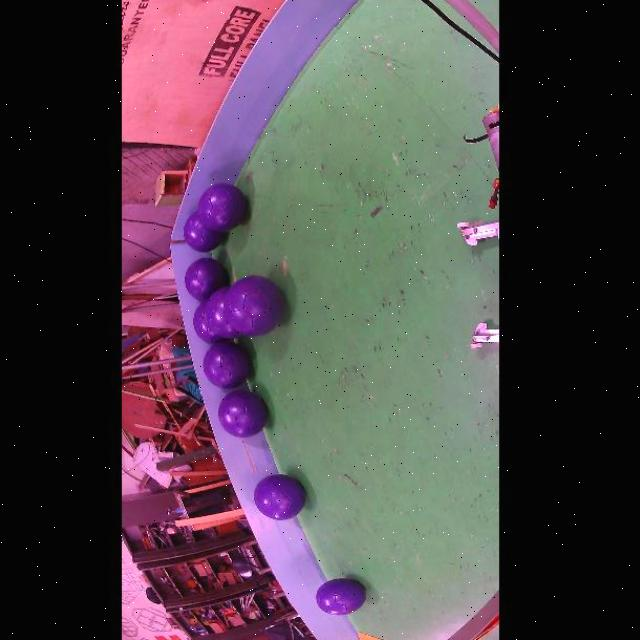P: (223, 275, 283, 336), (253, 475, 304, 521), (197, 184, 245, 232), (218, 391, 266, 438), (202, 342, 249, 388), (184, 258, 227, 302), (315, 578, 365, 615), (205, 286, 240, 338), (183, 212, 223, 252), (192, 300, 224, 344)
